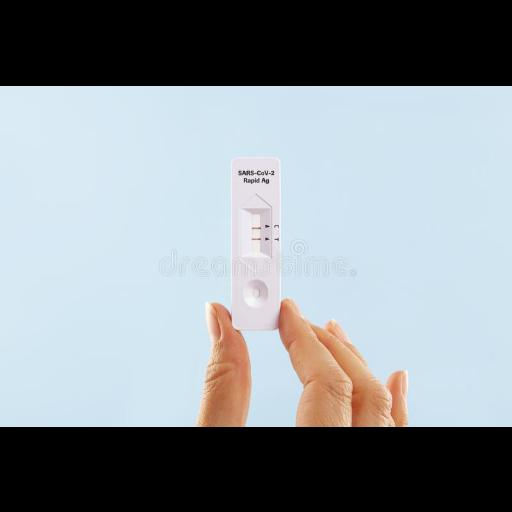Pos: (230, 156, 282, 328)
